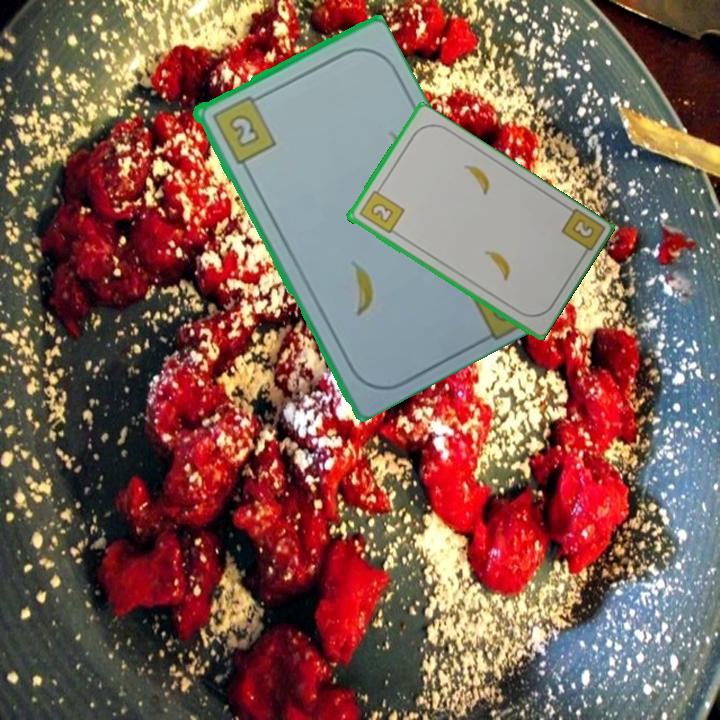2b: (208, 91, 279, 167), (355, 183, 407, 237), (568, 215, 597, 242)
